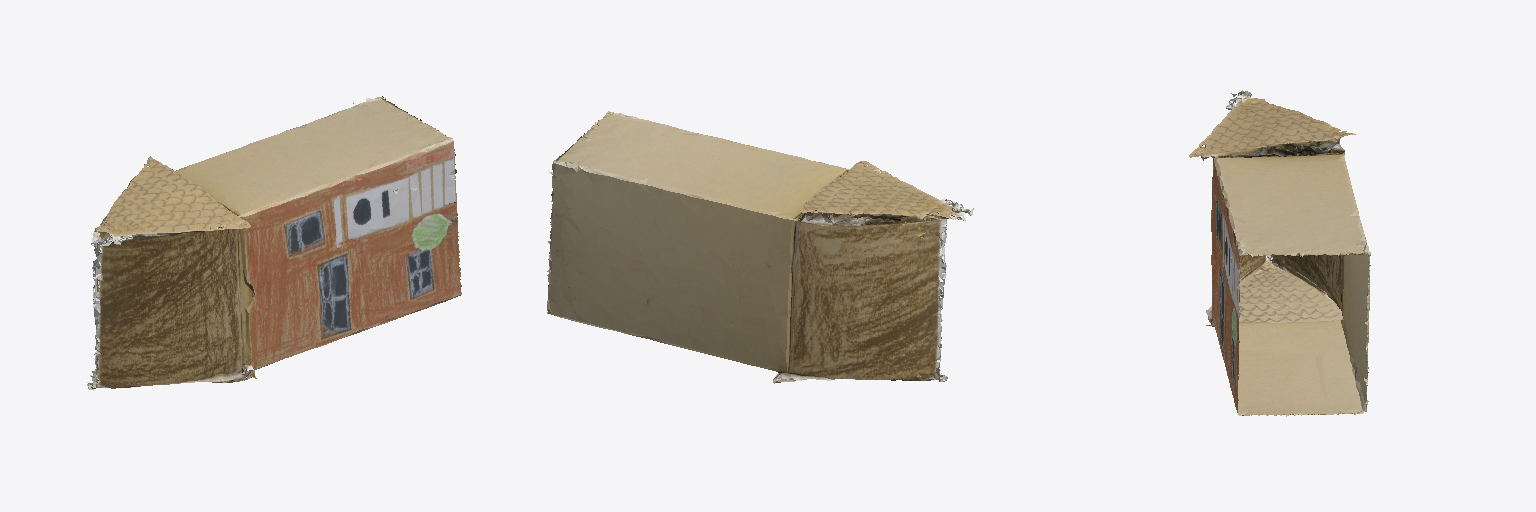
3 views of the same model, side by side, from view 1: azimuth 30°, elevation 25°; view 2: azimuth 150°, elevation 25°; view 3: azimuth 270°, elevation 25° (orthographic).
Bounding box in the file's own units: 2.37 × 1.09 × 1.02.
1 materials, 1 textured.